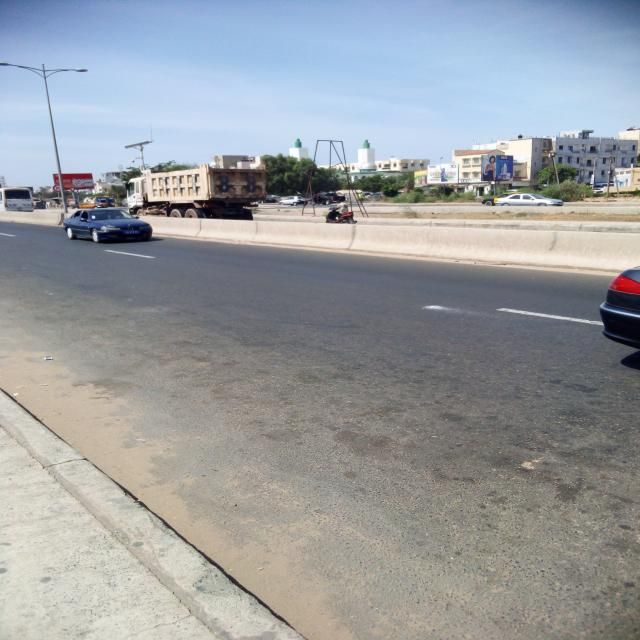bus tata: (1, 189, 34, 212)
camion: (128, 166, 268, 220)
moto: (326, 207, 358, 225)
particulier: (64, 210, 153, 244), (494, 195, 564, 207), (314, 194, 346, 206), (279, 197, 309, 207)
